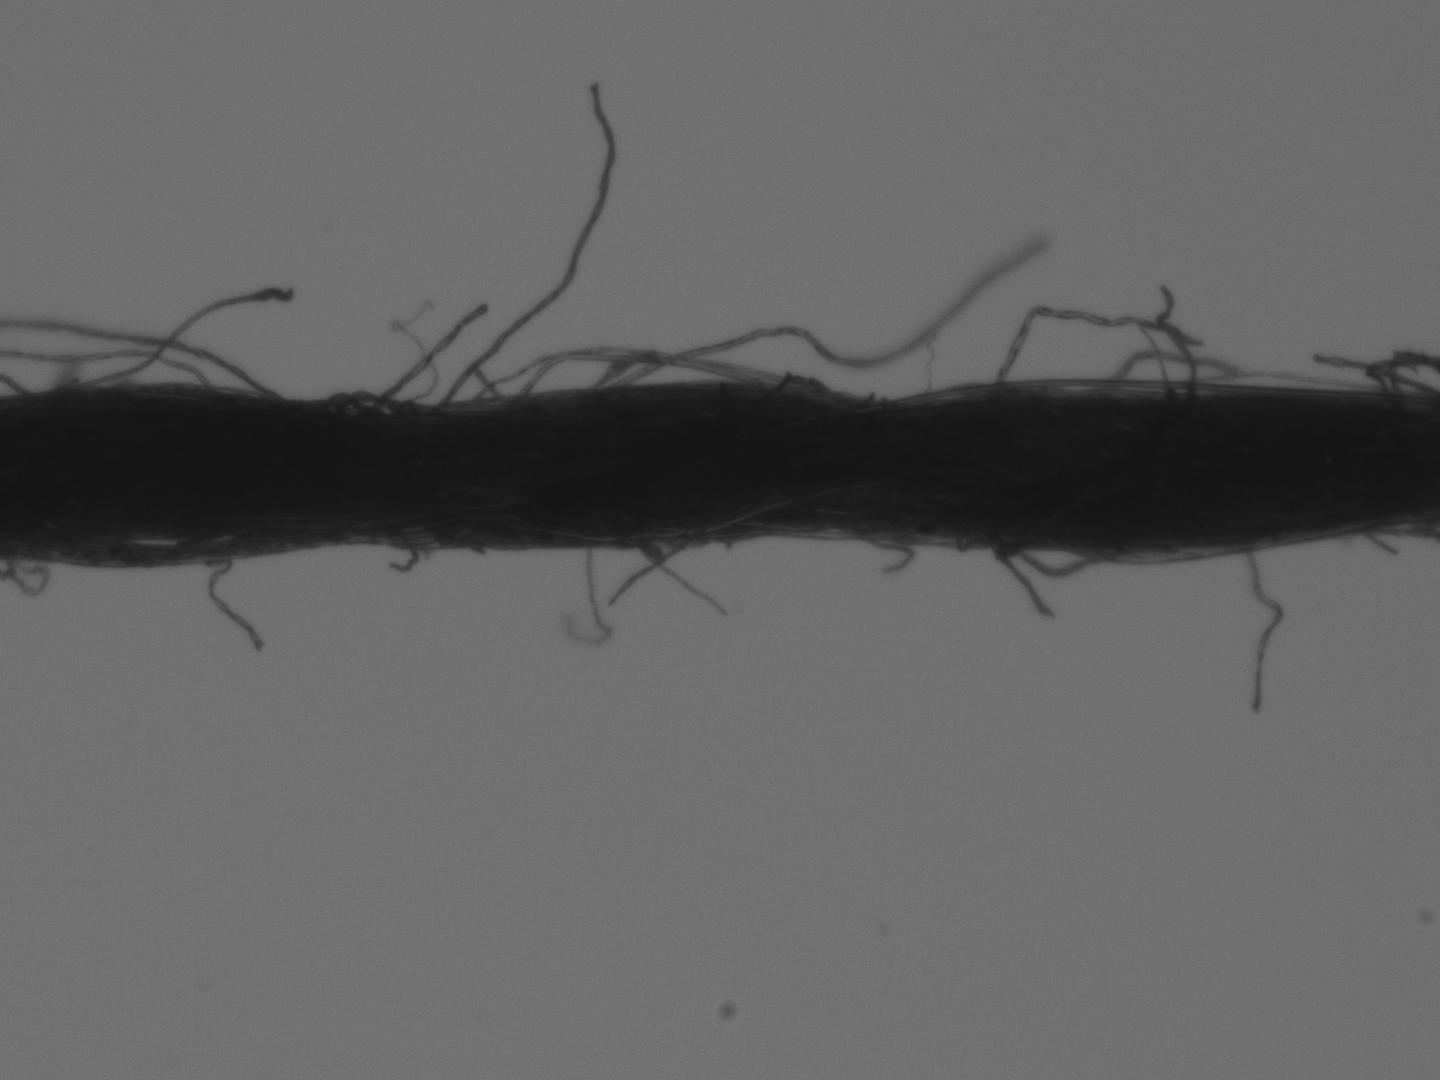loop_fiber: (463, 341, 866, 406), (940, 531, 1110, 576), (1164, 365, 1365, 396), (280, 386, 430, 421)
protruding_fiber: (439, 78, 618, 414), (79, 287, 288, 388), (376, 306, 489, 410), (1245, 540, 1291, 719), (202, 556, 269, 658)
